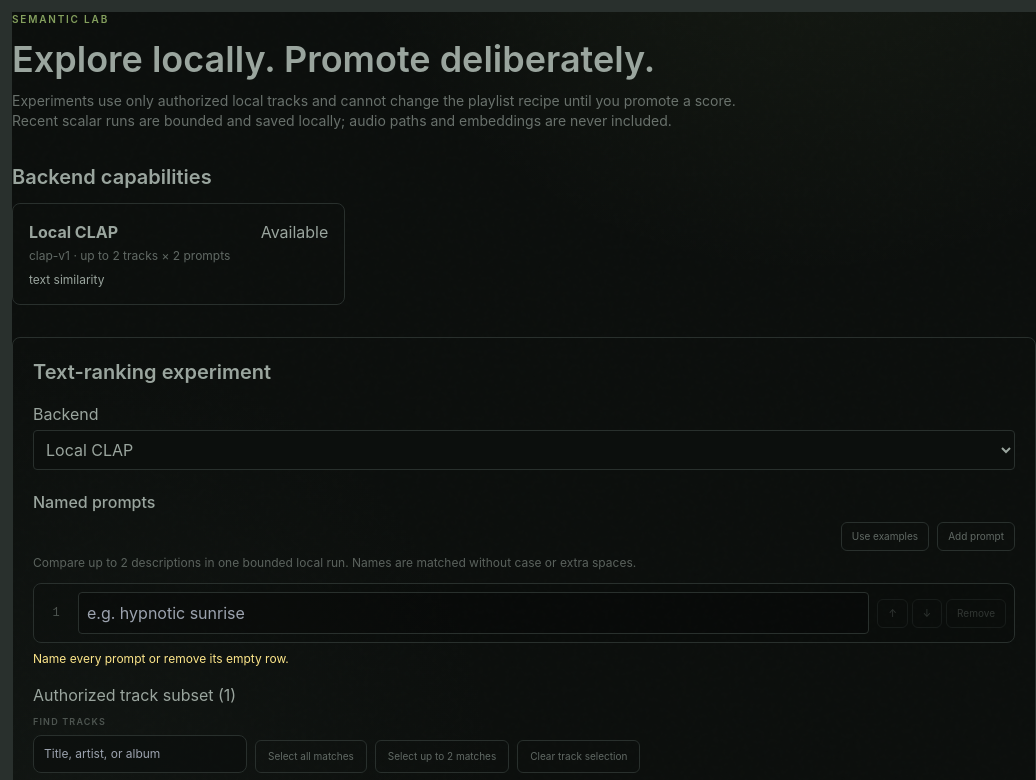
Test: blocks duplicate and oversized prompt sets before inference
Type "Warm Glow" into the field named "Prompt 1" at (474, 613), box [78,592,869,634]
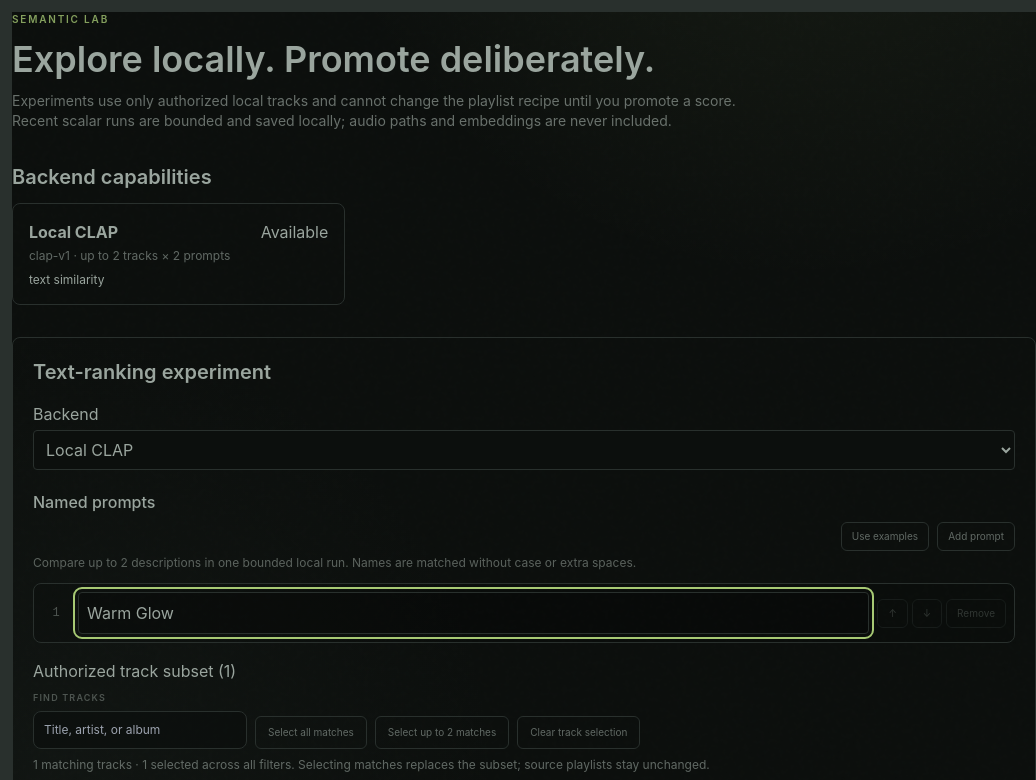
Click the button "Add prompt" at (976, 536), box [937,522,1015,551]
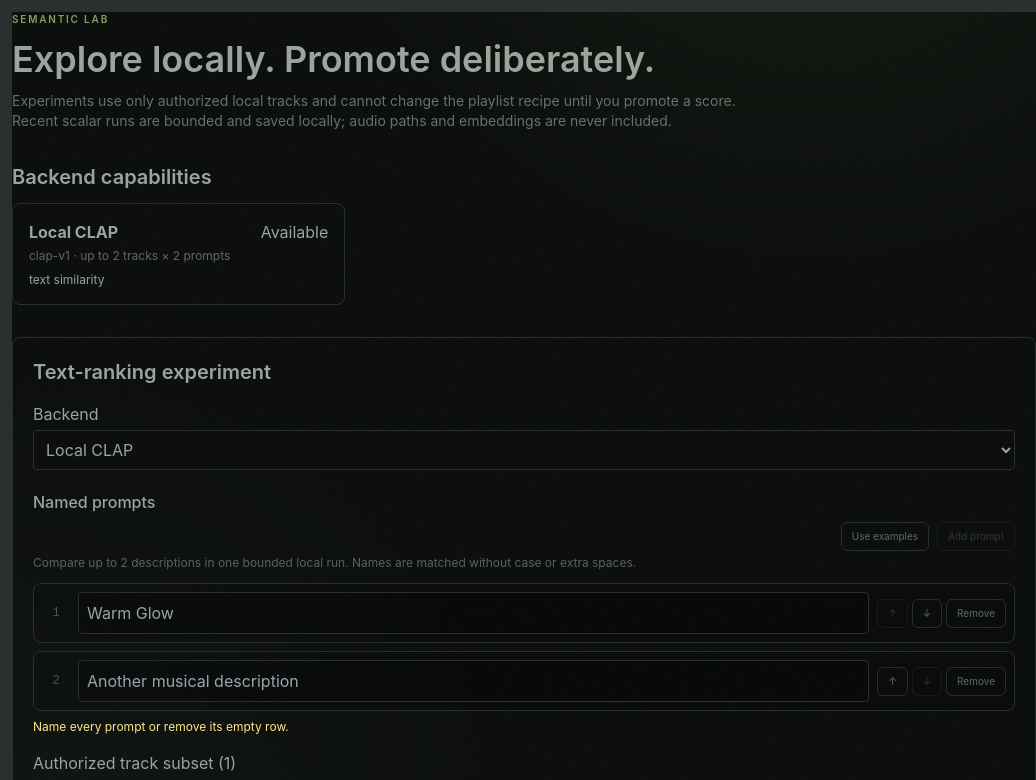
Type " warm   glow " into the field named "Prompt 2" at (474, 681), box [78,660,869,702]
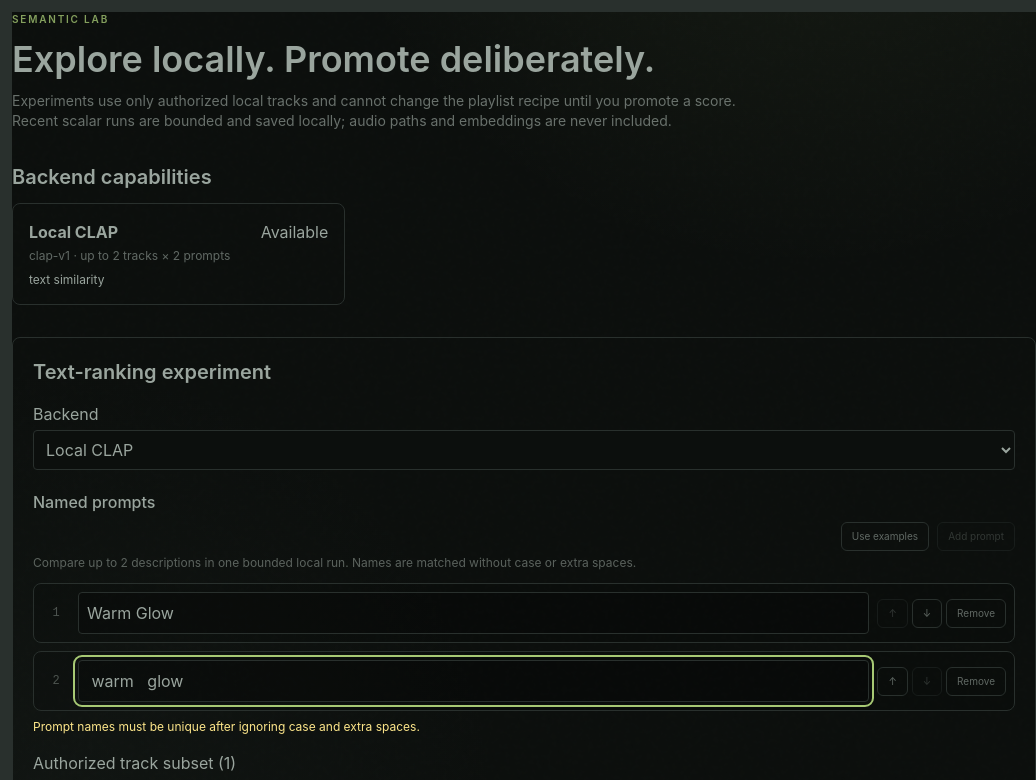
Now the button "Add prompt" is disabled, box [937,522,1015,551]
Now the message shows "unique", box [33,719,420,734]
